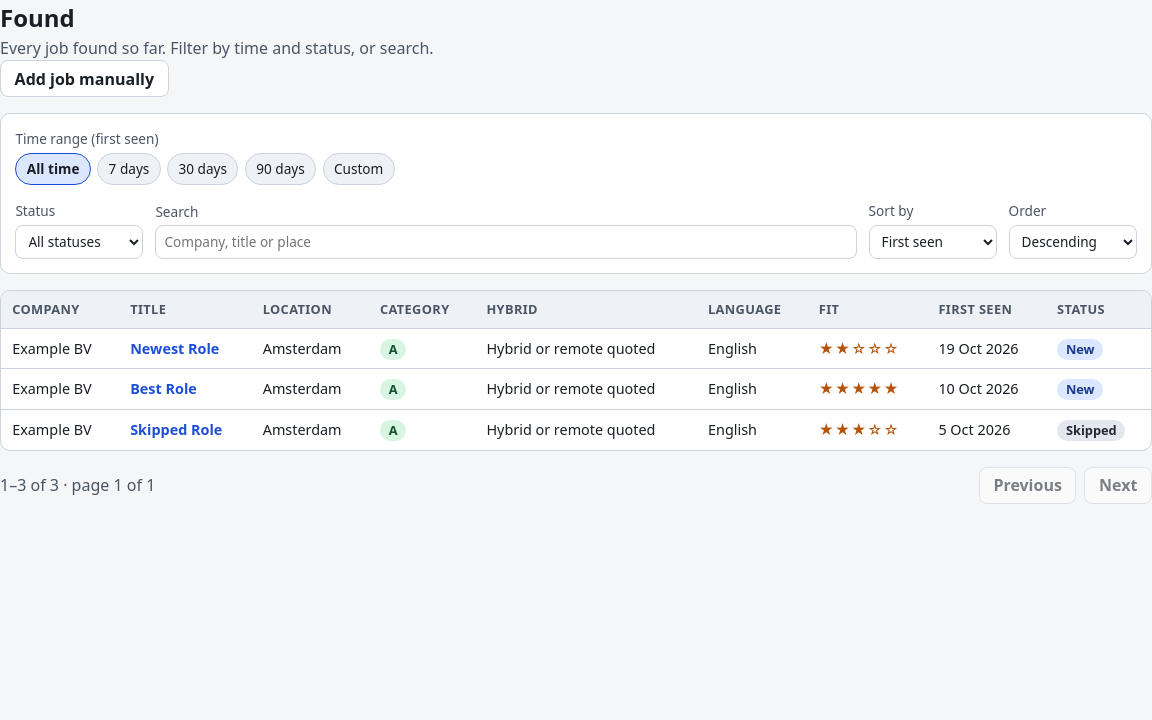
Test case: FoundPage › opens a job even when the documents could not be loaded
Click the button "Best Role" at point(164, 389), box [130, 378, 197, 400]
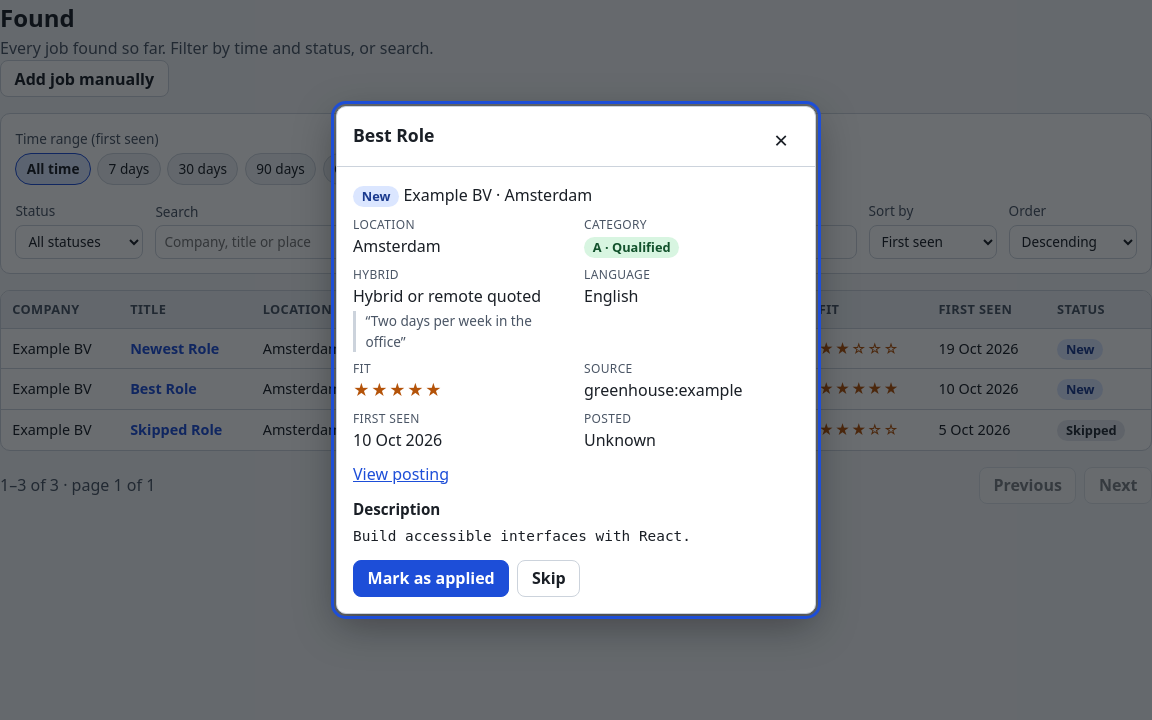
Now the dialog "Best Role" is shown, box [336, 106, 816, 614]
